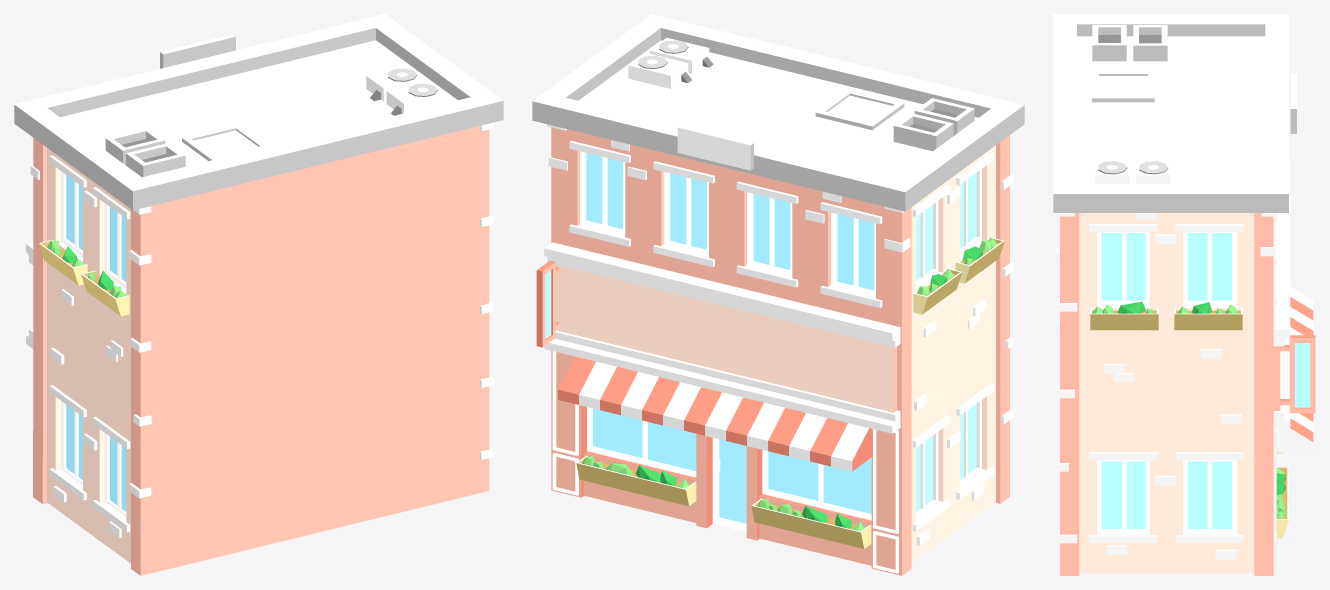
Rendered from dwelling&store.008.glb.
The picture shows the model from 3 angles, left to right: view 1: azimuth 30°, elevation 25°; view 2: azimuth 150°, elevation 25°; view 3: azimuth 270°, elevation 25°; orthographic projection.
Visible parts, largest first — view 1: dwelling&store.008(Clone); view 2: dwelling&store.008(Clone); view 3: dwelling&store.008(Clone).
Part boxes in pixels (bbox=[...]): dwelling&store.008(Clone): bbox=[14, 14, 503, 575]; dwelling&store.008(Clone): bbox=[532, 14, 1024, 575]; dwelling&store.008(Clone): bbox=[1053, 14, 1315, 575].
Bounding box in the file's own units: 7.05 × 7.32 × 4.34.
1 material, 1 textured.
